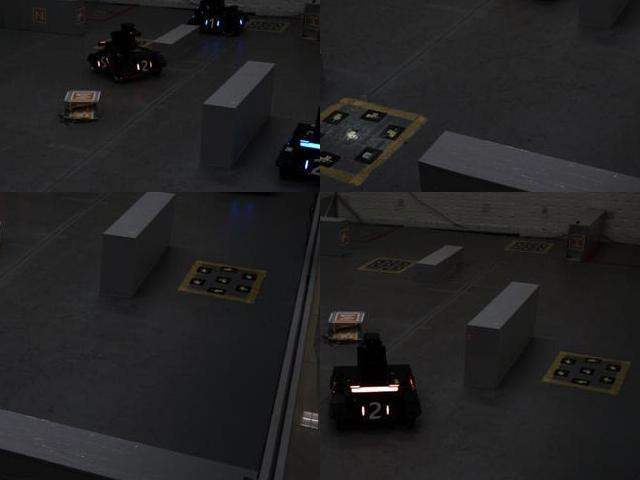armor: (352, 399, 397, 427), (297, 152, 319, 186), (202, 13, 222, 34), (133, 57, 155, 76), (96, 54, 112, 73)
